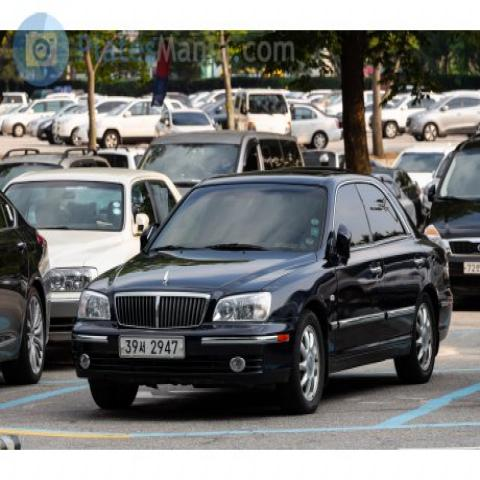LP: (116, 330, 189, 362)
